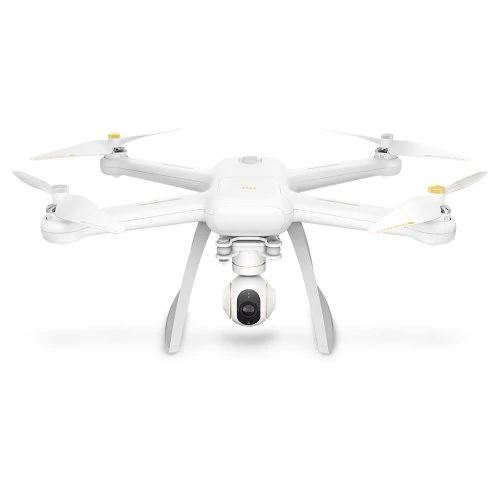drone: (11, 118, 491, 369)
